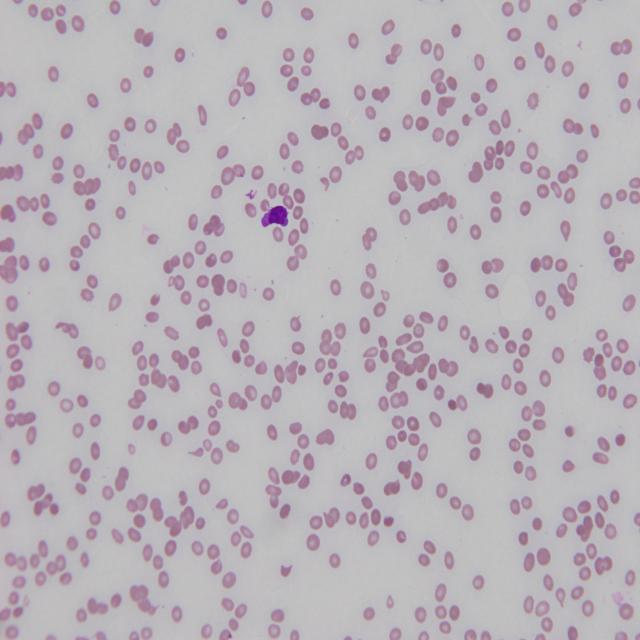cell: (261, 206, 289, 226)
